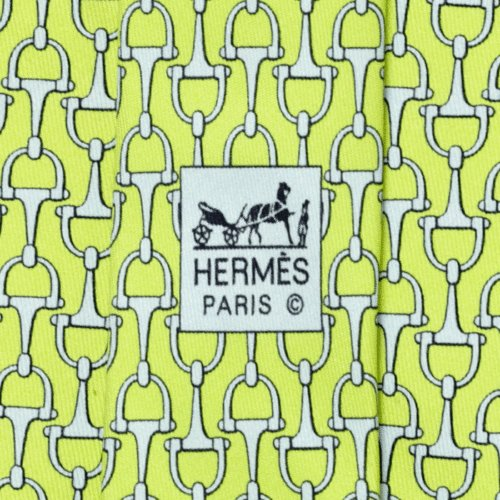HERMES: (183, 170, 322, 327)
